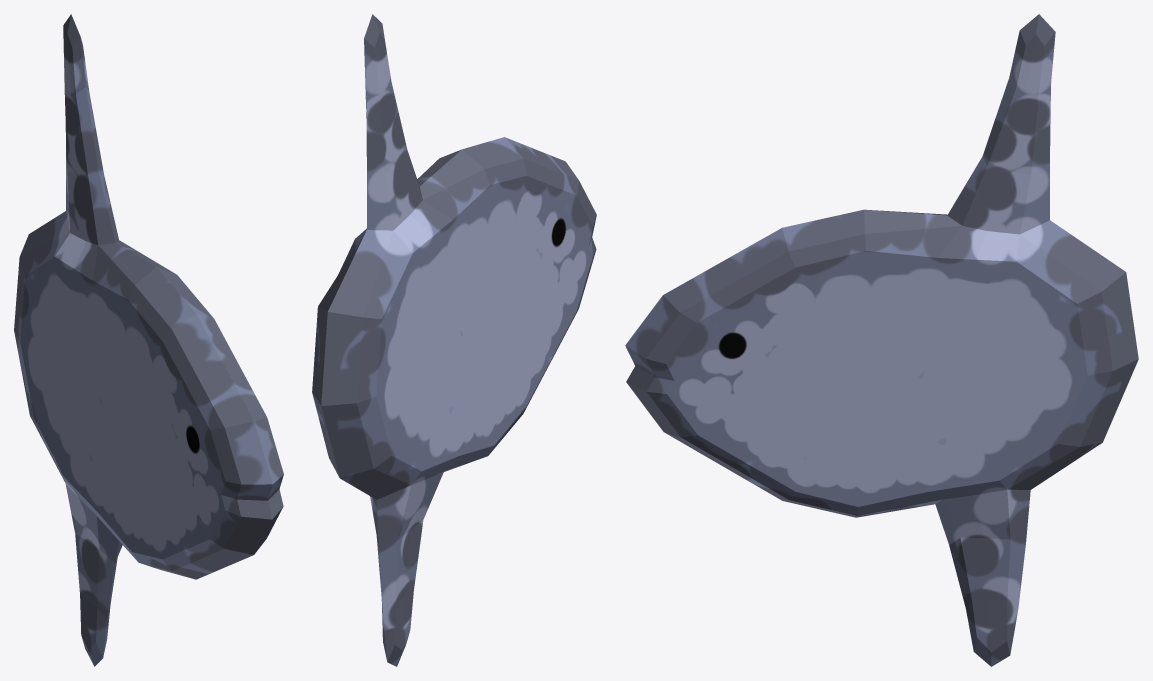
File: SunFishy.fbx
The picture shows the model from 3 angles, left to right: view 1: azimuth 30°, elevation 25°; view 2: azimuth 150°, elevation 25°; view 3: azimuth 270°, elevation 25°; orthographic projection. The views are drawn at different scales.
Visible parts, largest first — view 1: Cube.003; view 2: Cube.003; view 3: Cube.003.
Boxes of the visible parts, left/top/right/bottom form: Cube.003: left=14, top=14, right=283, bottom=666; Cube.003: left=312, top=14, right=596, bottom=666; Cube.003: left=625, top=14, right=1138, bottom=666.
Bounding box in the file's own units: 15.66 × 173 × 124.
Materials: 1 (1 with a texture image).
